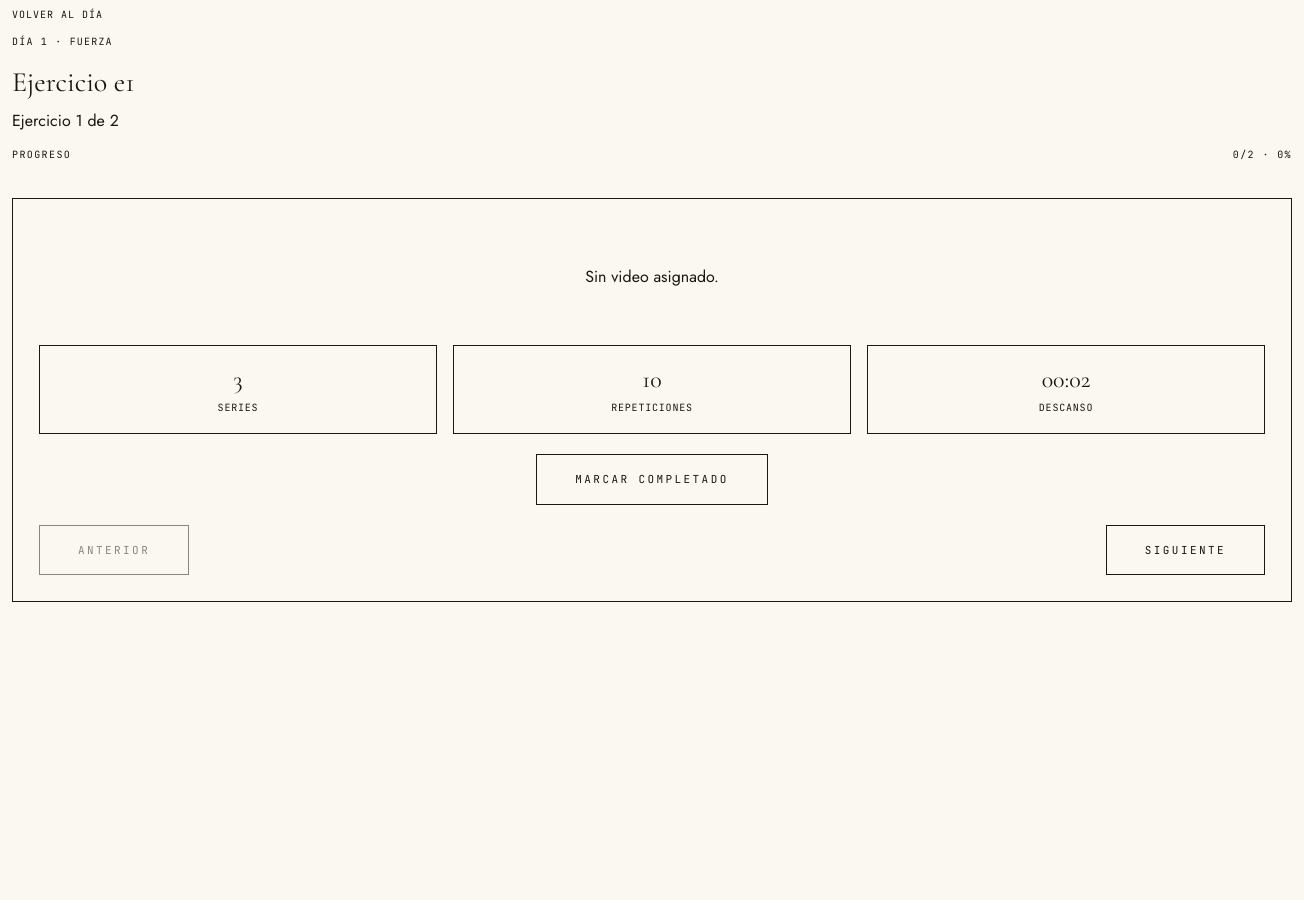
Test case: TrainingPlayer › marks the current exercise complete and starts the rest timer
Click the button "Marcar completado": (652, 479) [536,454,768,504]
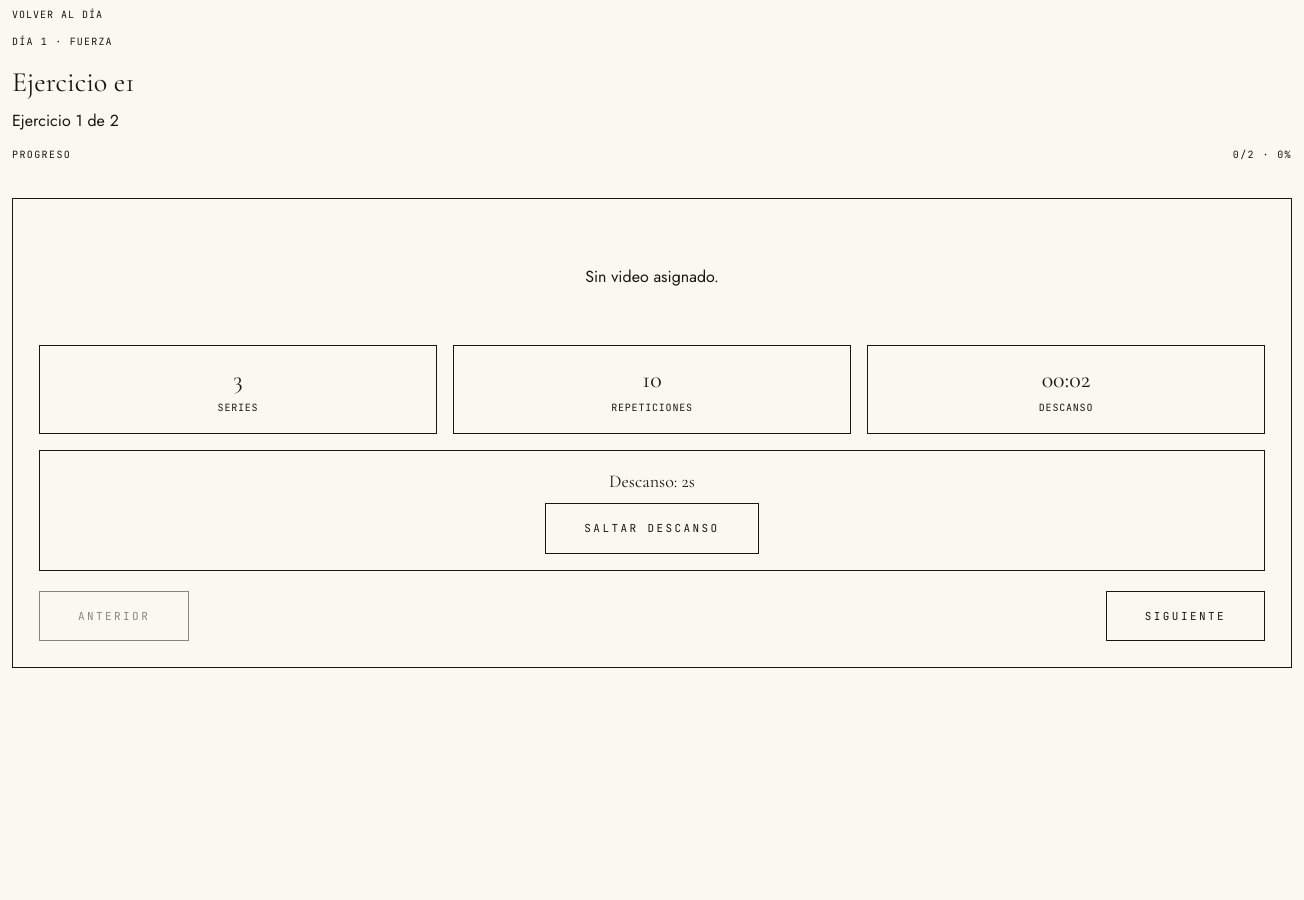
Now the text "Descanso: 2s" is shown, box [609,470,695,492]
